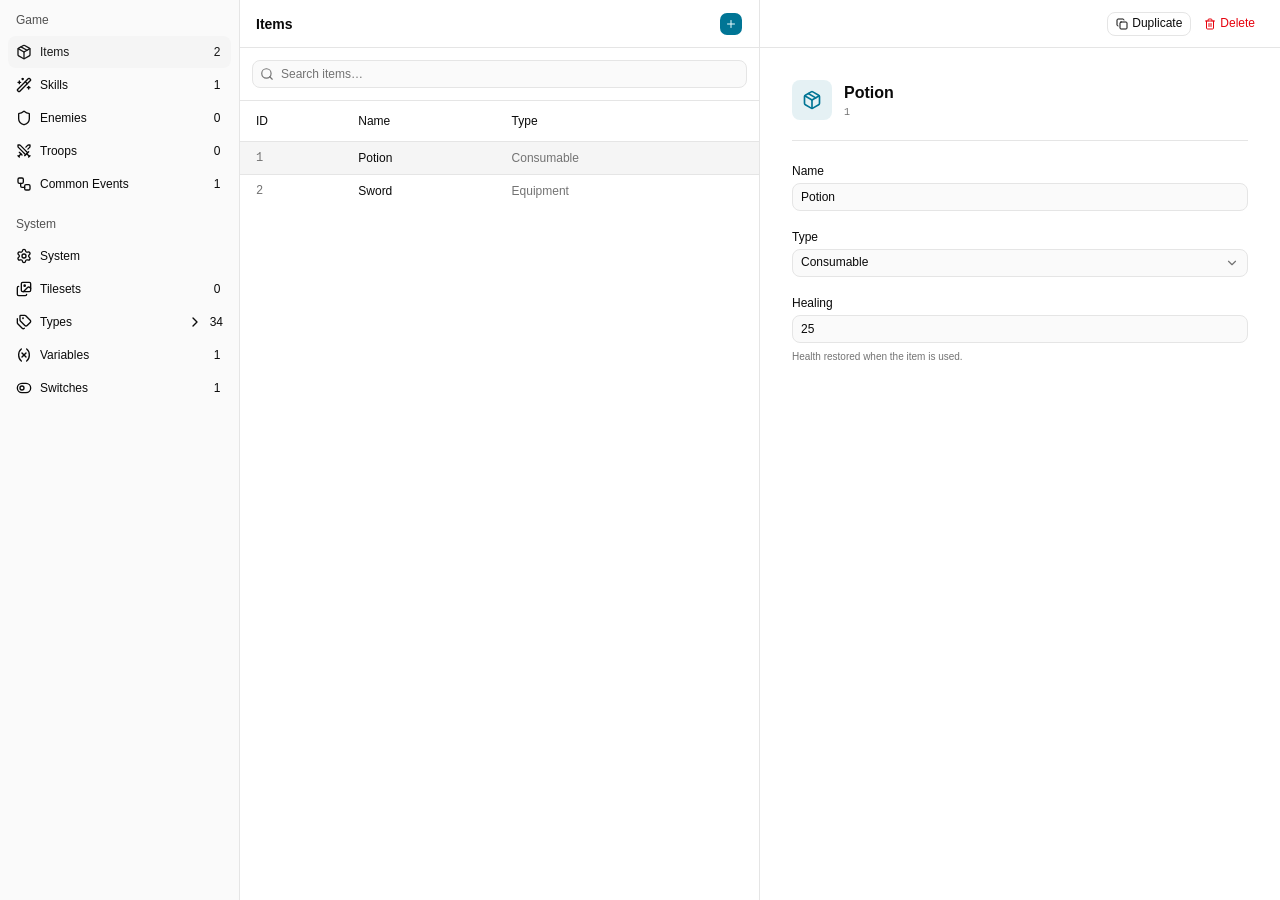
Test: DatabaseManager › keeps project tilesets in the database
Click the button "Tilesets" at (120, 289), box x1=8 y1=273 x2=231 y2=305
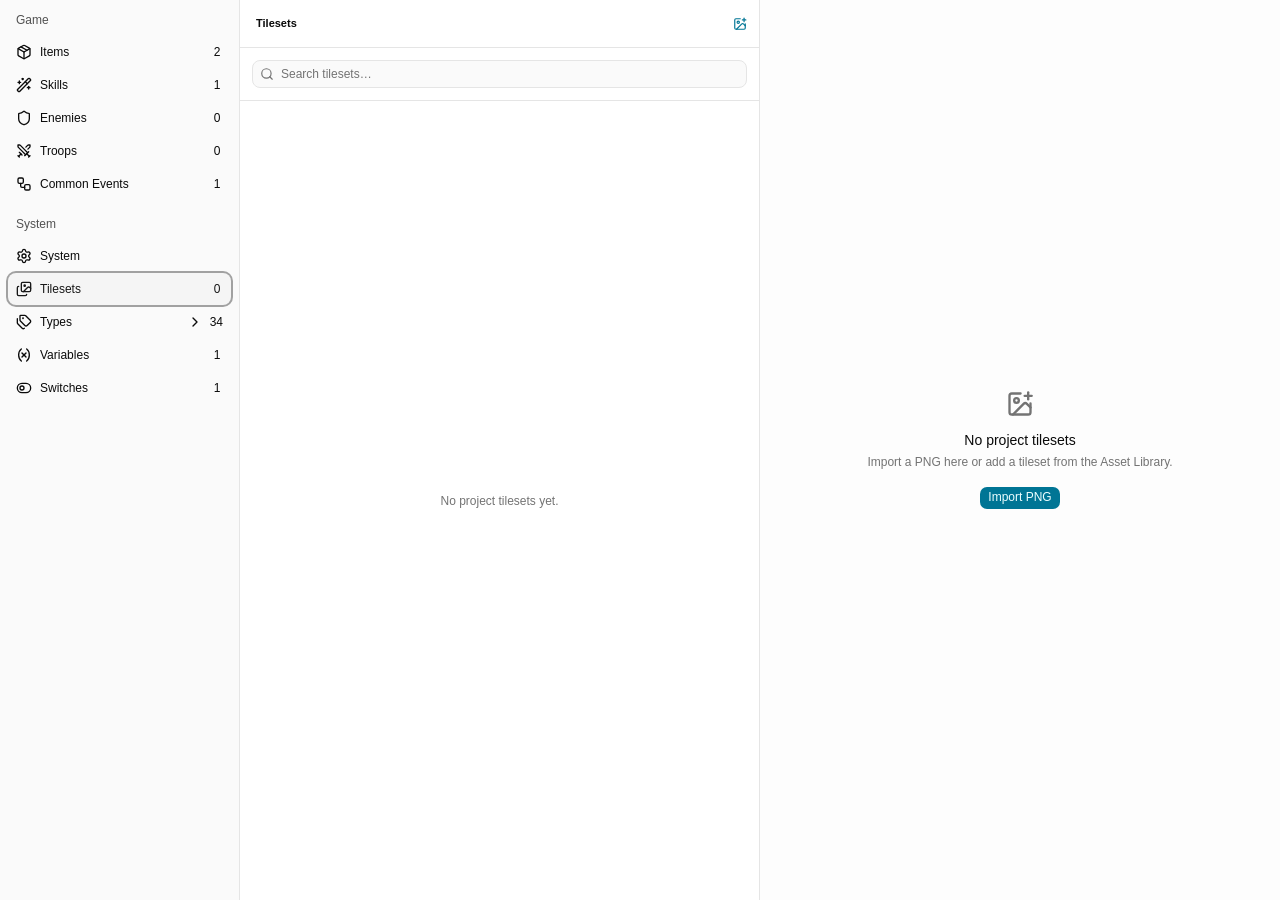
expect the text "Tilesets" is shown: met, box x1=240 y1=0 x2=759 y2=48
expect the search field named "Search project tilesets" is shown: met, box x1=252 y1=60 x2=747 y2=88
expect the button "Import PNG" is shown: met, box x1=979 y1=486 x2=1061 y2=510
